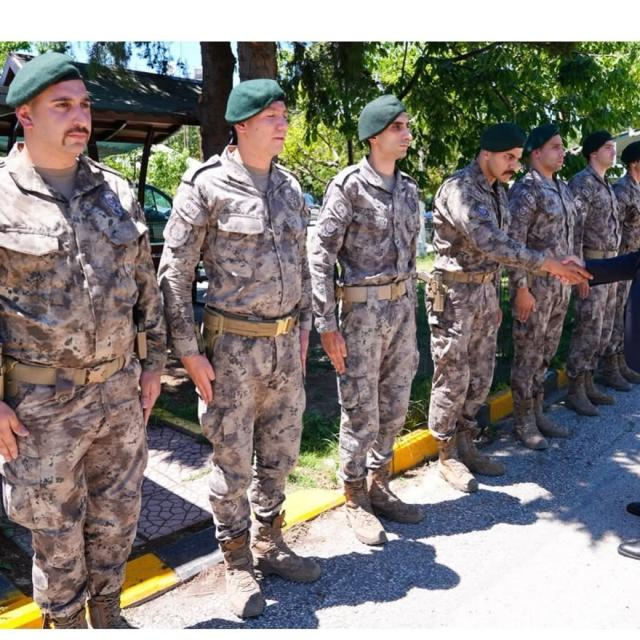poh_personel: (0, 51, 165, 631), (160, 78, 318, 612), (313, 95, 426, 538), (429, 123, 525, 483), (520, 126, 574, 449), (577, 126, 617, 414)
